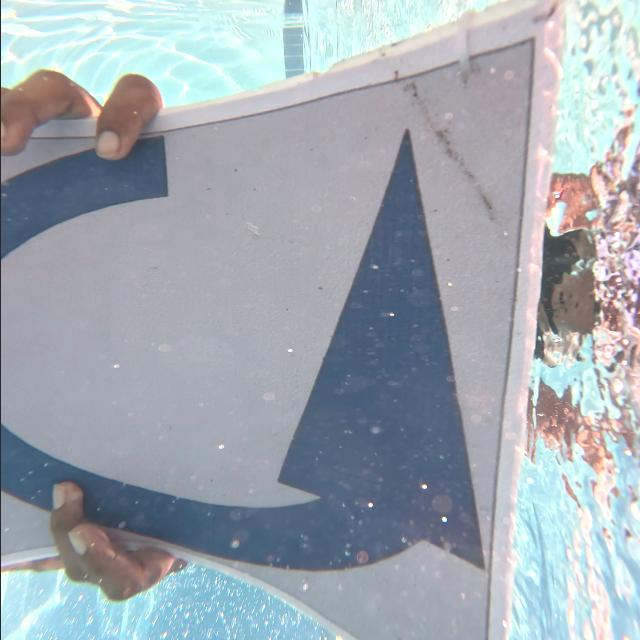blue_side: (0, 10, 565, 640)
